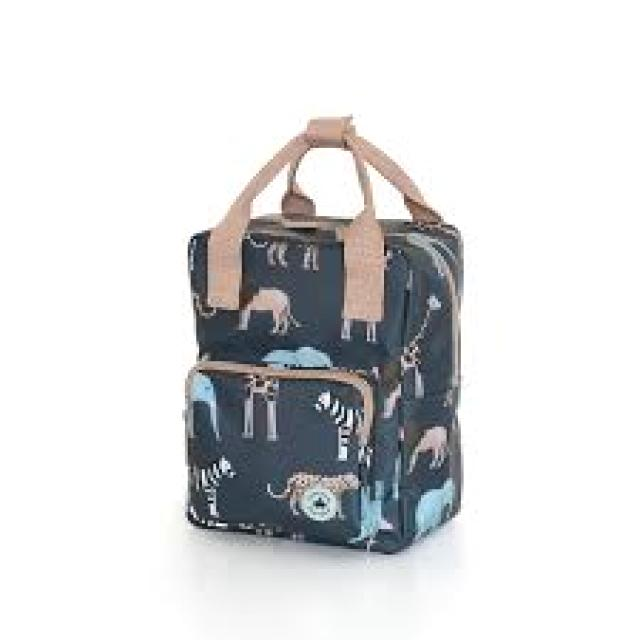backpack: (181, 112, 465, 556)
